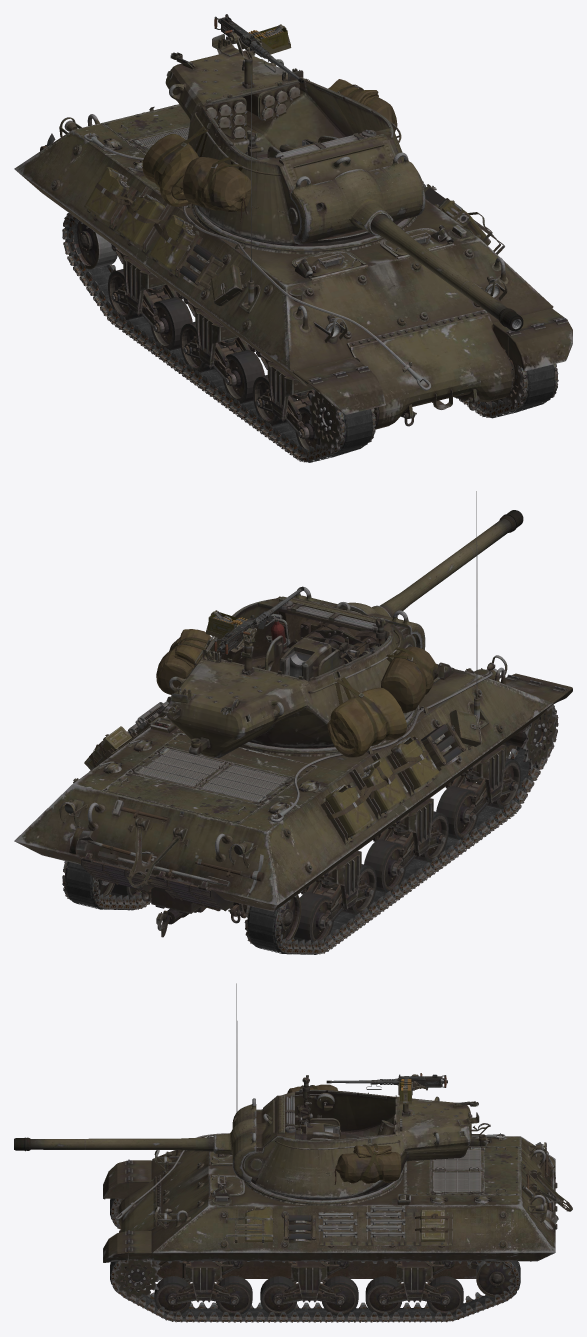
File: M36_GMC.obj
The picture shows the model from 3 angles, top to bottom: view 1: azimuth 30°, elevation 25°; view 2: azimuth 150°, elevation 25°; view 3: azimuth 270°, elevation 25°; orthographic projection. The views are drawn at different scales.
Visible parts, largest first — view 1: vehicle#x_root_83, vehicle#bone_turret_0, vehicle#track_r_11, vehicle#bone_gun_5, vehicle#gun_barrel_6, vehicle#ex_decor_turret_01_4, vehicle#ex_decor_turret_02_1, vehicle#ex_decor_l_01_57, vehicle#ex_decor_r_01_58, vehicle#track_l_10, vehicle#bone_mg_aa_v_01_9, vehicle#ex_decor_04_63 (+16 smaller); view 2: vehicle#x_root_83, vehicle#bone_turret_0, vehicle#track_r_11, vehicle#gun_barrel_6, vehicle#bone_gun_5, vehicle#ex_decor_turret_02_1, vehicle#ex_decor_turret_01_4, vehicle#hatch_03_81, vehicle#hatch_04_82, vehicle#track_l_10, vehicle#ex_decor_turret_03_3, vehicle#bone_mg_aa_v_01_9 (+16 smaller); view 3: vehicle#x_root_83, vehicle#bone_turret_0, vehicle#track_l_10, vehicle#gun_barrel_6, vehicle#bone_gun_5, vehicle#ex_decor_turret_03_3, vehicle#wheel_l_drive_42, vehicle#hatch_04_82, vehicle#bone_mg_aa_v_01_9, vehicle#wheel_l_back_43, vehicle#ex_armor_03_68, vehicle#wheel_l_04_21 (+13 smaller).
Boxes of the visible parts, x1,y1,x2,y2 form: vehicle#x_root_83: [14, 104, 567, 429]; vehicle#bone_turret_0: [165, 34, 403, 246]; vehicle#track_r_11: [62, 213, 375, 462]; vehicle#bone_gun_5: [267, 135, 425, 244]; vehicle#gun_barrel_6: [279, 139, 523, 331]; vehicle#ex_decor_turret_01_4: [182, 157, 251, 223]; vehicle#ex_decor_turret_02_1: [142, 126, 207, 206]; vehicle#ex_decor_l_01_57: [507, 320, 572, 370]; vehicle#ex_decor_r_01_58: [308, 368, 386, 414]; vehicle#track_l_10: [456, 364, 558, 418]; vehicle#bone_mg_aa_v_01_9: [214, 14, 304, 83]; vehicle#ex_decor_04_63: [117, 193, 166, 247]; vehicle#x_root_83: [14, 662, 567, 937]; vehicle#bone_turret_0: [163, 596, 416, 758]; vehicle#track_r_11: [244, 705, 558, 954]; vehicle#gun_barrel_6: [279, 510, 523, 680]; vehicle#bone_gun_5: [261, 586, 425, 676]; vehicle#ex_decor_turret_02_1: [327, 677, 406, 757]; vehicle#ex_decor_turret_01_4: [381, 646, 438, 712]; vehicle#hatch_03_81: [195, 762, 294, 804]; vehicle#hatch_04_82: [132, 746, 231, 789]; vehicle#track_l_10: [62, 861, 151, 910]; vehicle#ex_decor_turret_03_3: [156, 629, 212, 694]; vehicle#bone_mg_aa_v_01_9: [206, 586, 304, 654]; vehicle#x_root_83: [115, 1133, 557, 1302]; vehicle#bone_turret_0: [242, 1075, 490, 1200]; vehicle#track_l_10: [110, 1252, 520, 1322]; vehicle#gun_barrel_6: [14, 1123, 339, 1151]; vehicle#bone_gun_5: [213, 1098, 340, 1182]; vehicle#ex_decor_turret_03_3: [334, 1143, 401, 1184]; vehicle#wheel_l_drive_42: [111, 1255, 162, 1300]; vehicle#hatch_04_82: [430, 1168, 483, 1193]; vehicle#bone_mg_aa_v_01_9: [326, 1073, 447, 1104]; vehicle#wheel_l_back_43: [476, 1261, 515, 1297]; vehicle#ex_armor_03_68: [366, 1206, 405, 1238]; vehicle#wheel_l_04_21: [321, 1276, 358, 1315].
Size of the model in its own units: 3.17 by 3.95 by 7.65.
12 materials, 12 textured.
